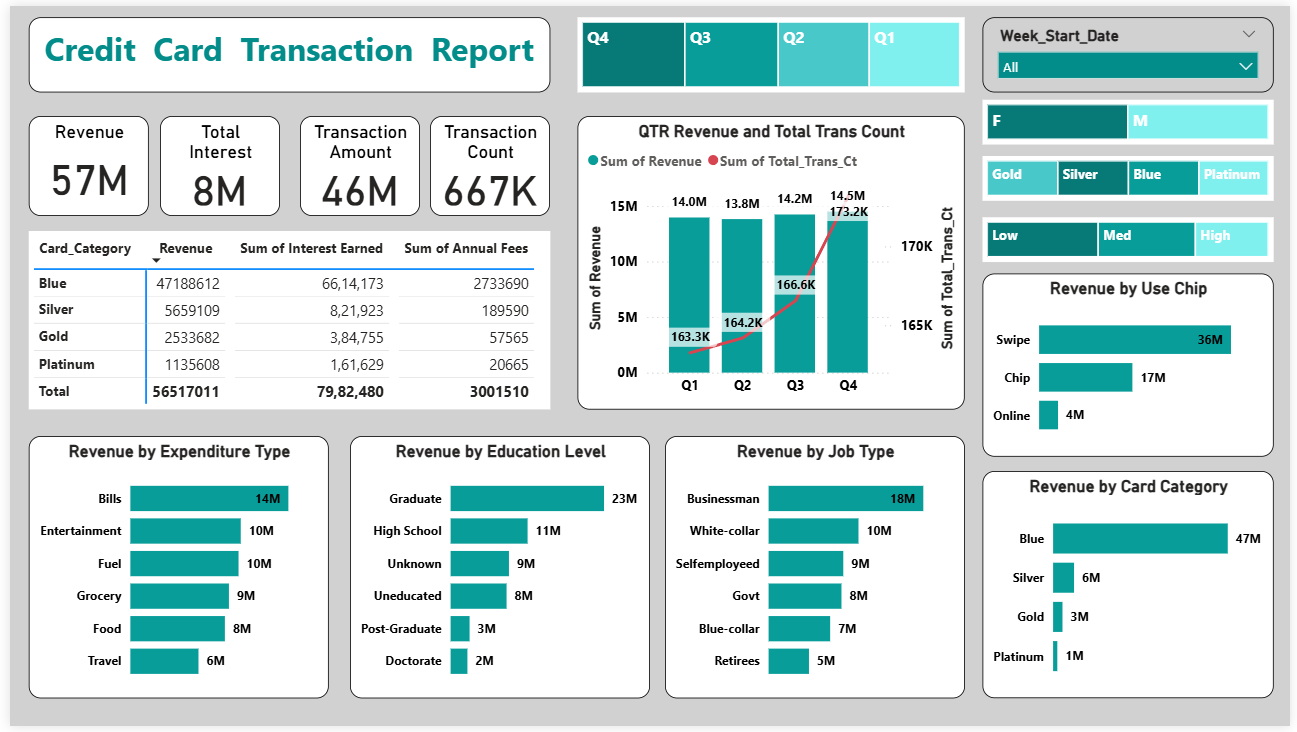

Layout of this report page (visuals, bound fields, positions):
{"tool":"powerbi","page":{"name":"CC Transaction Report","canvas":[1280,720],"ordinal":0},"visuals":[{"type":"textbox","box":[18.7,11.5,521.3,74.9],"z":0},{"type":"lineStackedColumnComboChart","title":"QTR Revenue and Total Trans Count","fields":{"Category":["ccdb cc_detail.Qtr"],"Y":["Sum(ccdb cc_detail.Revenue)"],"Y2":["Sum(ccdb cc_detail.Total_Trans_Ct)"]},"box":[567.4,109.4,387.4,293.8],"z":1000},{"type":"barChart","title":"Revenue by Expenditure Type","fields":{"Y":["Sum(ccdb cc_detail.Revenue)"],"Category":["ccdb cc_detail.Exp_Type"]},"box":[18.7,430.6,300,262.1],"z":2000},{"type":"barChart","title":"Revenue by Education Level","fields":{"Y":["Sum(ccdb cc_detail.Revenue)"],"Category":["ccdb cust_detail.Education_Level"]},"box":[339.8,430.6,300,262.1],"z":3000},{"type":"barChart","title":"Revenue by Job Type","fields":{"Y":["Sum(ccdb cc_detail.Revenue)"],"Category":["ccdb cust_detail.Customer_Job"]},"box":[655.2,430.6,300,262.1],"z":4000},{"type":"barChart","title":"Revenue by Card Category","fields":{"Y":["Sum(ccdb cc_detail.Revenue)"],"Category":["ccdb cc_detail.Card_Category"]},"box":[972,465.1,290.9,227.5],"z":5000},{"type":"barChart","title":"Revenue by Use Chip","fields":{"Y":["Sum(ccdb cc_detail.Revenue)"],"Category":["ccdb cc_detail.Use_Chip"]},"box":[972,267.8,290.9,182.9],"z":6000},{"type":"pivotTable","fields":{"Values":["Sum(ccdb cc_detail.Revenue)","Sum(ccdb cc_detail.Interest_Earned)","Sum(ccdb cc_detail.Annual_Fees)"],"Rows":["ccdb cc_detail.Card_Category"]},"box":[18.7,224.6,521.3,178.6],"z":7000},{"type":"card","title":"Revenue","fields":{"Values":["Sum(ccdb cc_detail.Revenue)"]},"box":[18.7,109.4,120,100],"z":8000},{"type":"card","title":"Transaction Amount","fields":{"Values":["Sum(ccdb cc_detail.Total_Trans_Amt)"]},"box":[289.4,109.4,120,100],"z":9000},{"type":"card","title":"Total Interest","fields":{"Values":["Sum(ccdb cc_detail.Interest_Earned)"]},"box":[149.8,109.4,120,100],"z":10000},{"type":"card","title":"Transaction Count","fields":{"Values":["Sum(ccdb cc_detail.Total_Trans_Ct)"]},"box":[420.5,109.4,120,100],"z":11000},{"type":"slicer","fields":{"Values":["ccdb cc_detail.Week_Start_Date"]},"box":[972,11.5,290.9,74.9],"z":12000},{"type":"treemap","fields":{"Group":["ccdb cc_detail.Qtr"],"Values":["Avg(ccdb cc_detail.Client_Num)"]},"box":[567.4,11.5,387.4,74.9],"z":13000},{"type":"treemap","fields":{"Values":["Avg(ccdb cc_detail.Client_Num)"],"Group":["ccdb cust_detail.Gender"]},"box":[972,93.6,290.9,44.6],"z":14000},{"type":"treemap","fields":{"Values":["Avg(ccdb cc_detail.Client_Num)"],"Group":["ccdb cc_detail.Card_Category"]},"box":[972,149.8,290.9,44.6],"z":15000},{"type":"treemap","fields":{"Values":["Count(ccdb cc_detail.Client_Num)"],"Group":["ccdb cust_detail.IncomeGroup"]},"box":[972,211.7,290.9,44.6],"z":16000}]}

Visuals, with their boxes in screenshot pixels (x1, y1, x2, y2), scaled from the page's 1280x720 canvas onto the 1297x732 screenshot:
textbox: box=[19, 12, 547, 88]
"QTR Revenue and Total Trans Count" lineStackedColumnComboChart: box=[575, 111, 967, 410]
"Revenue by Expenditure Type" barChart: box=[19, 438, 323, 704]
"Revenue by Education Level" barChart: box=[344, 438, 648, 704]
"Revenue by Job Type" barChart: box=[664, 438, 968, 704]
"Revenue by Card Category" barChart: box=[985, 473, 1280, 704]
"Revenue by Use Chip" barChart: box=[985, 272, 1280, 458]
pivotTable - Sum(ccdb cc_detail.Revenue) x Sum(ccdb cc_detail.Interest_Earned): box=[19, 228, 547, 410]
"Revenue" card: box=[19, 111, 141, 213]
"Transaction Amount" card: box=[293, 111, 415, 213]
"Total Interest" card: box=[152, 111, 273, 213]
"Transaction Count" card: box=[426, 111, 548, 213]
slicer - ccdb cc_detail.Week_Start_Date: box=[985, 12, 1280, 88]
treemap - ccdb cc_detail.Qtr x Avg(ccdb cc_detail.Client_Num): box=[575, 12, 967, 88]
treemap - Avg(ccdb cc_detail.Client_Num) x ccdb cust_detail.Gender: box=[985, 95, 1280, 141]
treemap - Avg(ccdb cc_detail.Client_Num) x ccdb cc_detail.Card_Category: box=[985, 152, 1280, 198]
treemap - Count(ccdb cc_detail.Client_Num) x ccdb cust_detail.IncomeGroup: box=[985, 215, 1280, 261]
